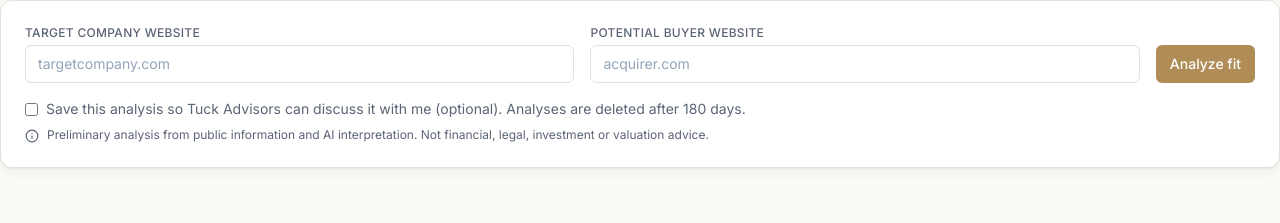
Scenario: M&A Analyzer › shows API errors
The image size is (1280, 223).
Type "a.example" into the field labelled "Target company website".
click(300, 64); type("a.example")  # box [25, 45, 574, 83]
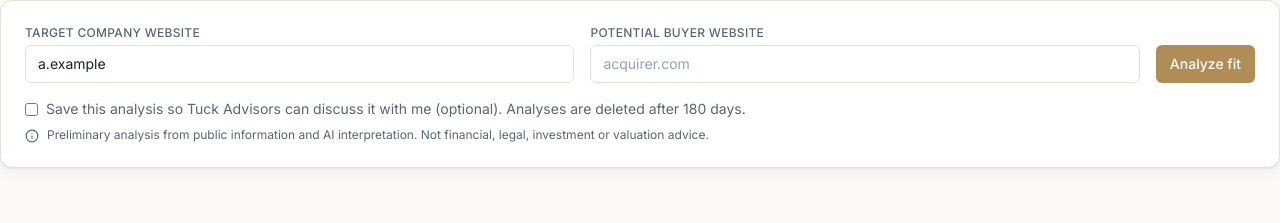
Type "b.example" into the field labelled "Potential buyer website".
click(865, 64); type("b.example")  # box [590, 45, 1140, 83]
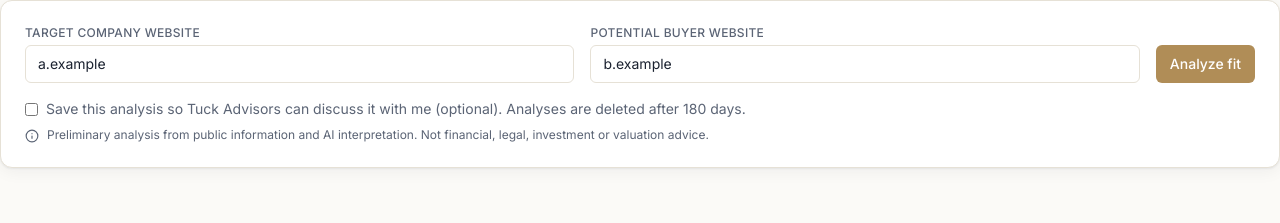
Click the button "Analyze fit".
click(1205, 64)  # box [1156, 45, 1255, 83]
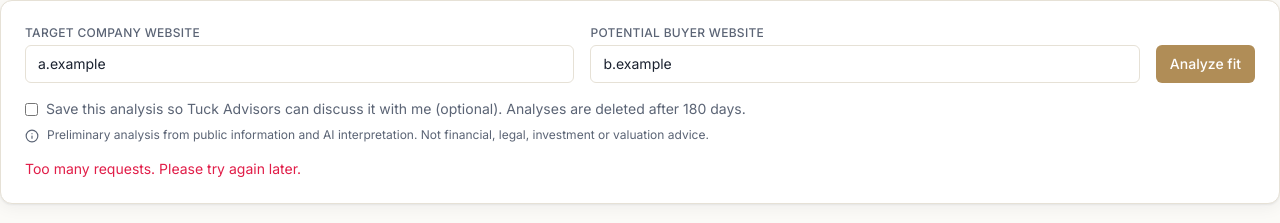
expect the message shows "Too many requests": met, box [25, 160, 301, 177]
